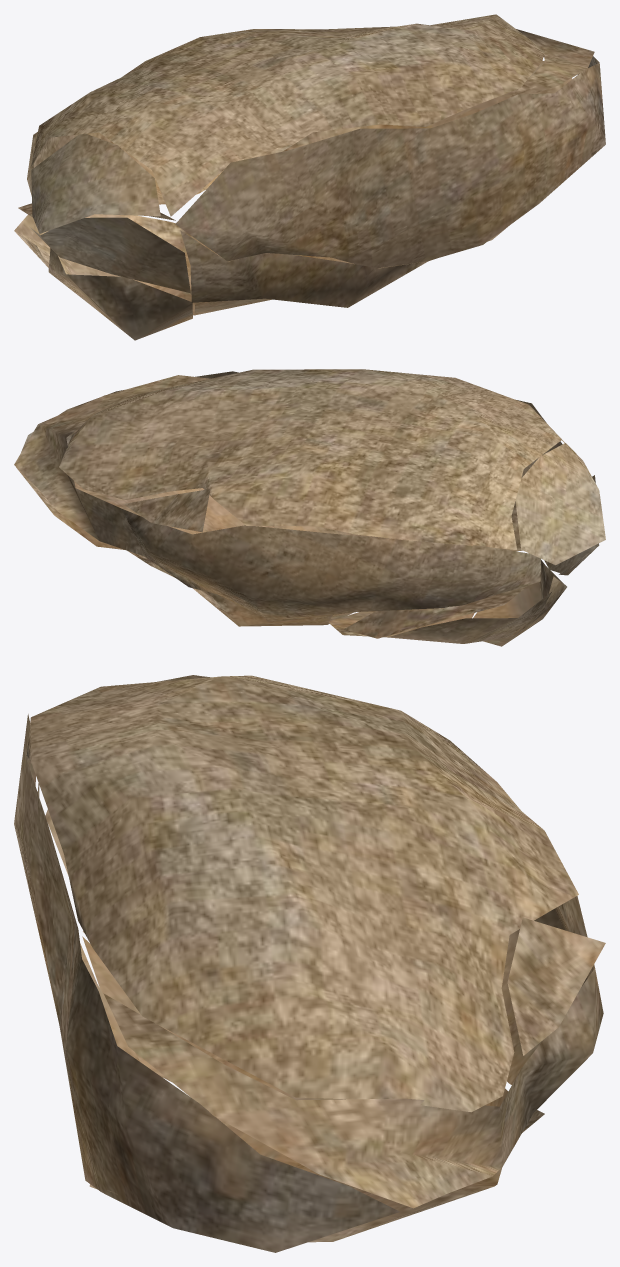
File: namaqualand_boulder_05.glb
3 renders of one model, top to bottom at view 1: azimuth 30°, elevation 25°; view 2: azimuth 150°, elevation 25°; view 3: azimuth 270°, elevation 25°, orthographic. The views are drawn at different scales.
Parts seen in each view (by area): view 1: namaqualand_boulder_05; view 2: namaqualand_boulder_05; view 3: namaqualand_boulder_05.
Part boxes in pixels (bbox=[...]): namaqualand_boulder_05: bbox=[14, 14, 605, 340]; namaqualand_boulder_05: bbox=[14, 369, 605, 646]; namaqualand_boulder_05: bbox=[14, 675, 605, 1252].
Size of the model in its own units: 1.35 by 0.5121 by 0.7321.
1 material, 1 textured.
